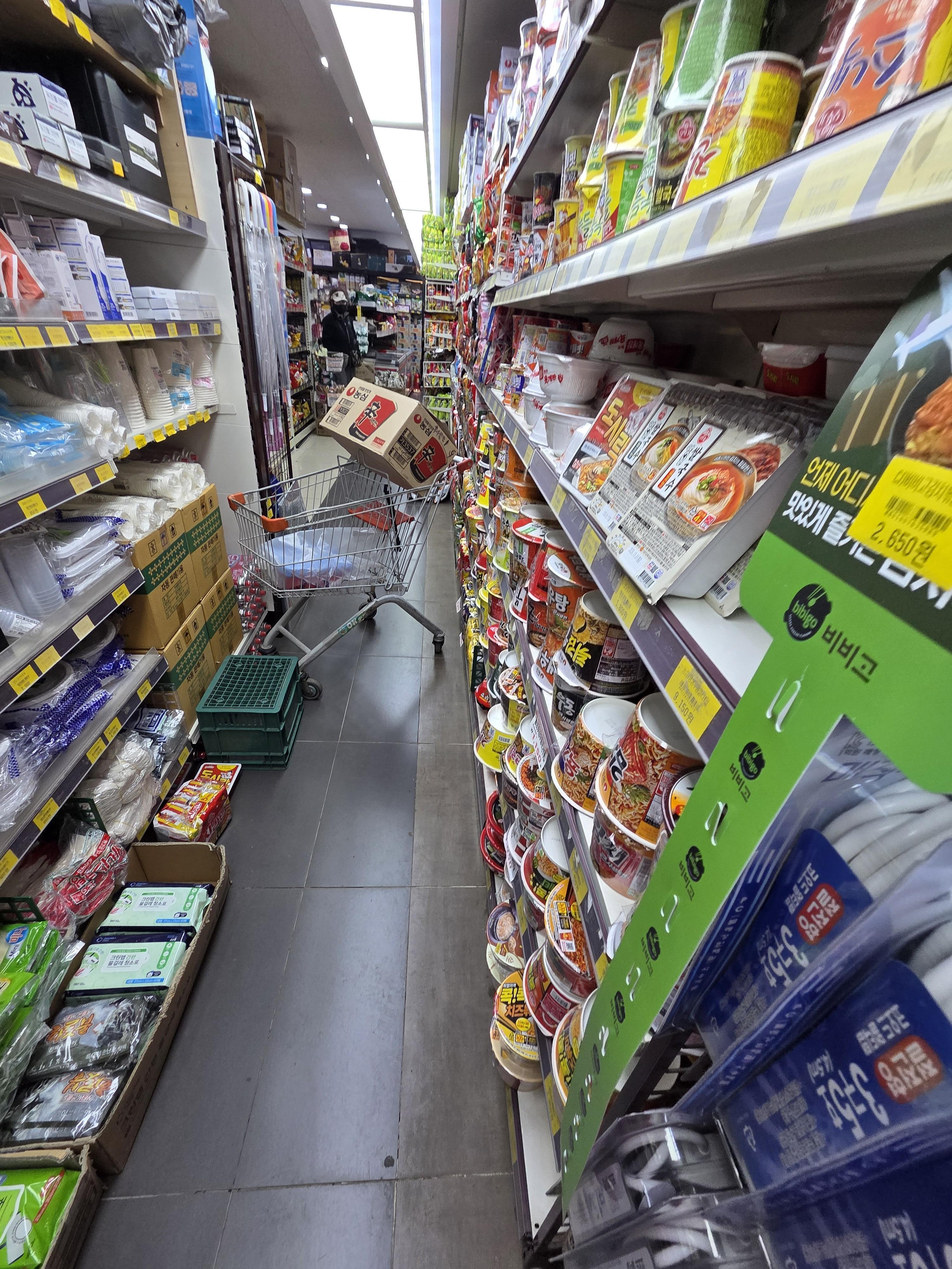fully_cart: (220, 371, 483, 705)
